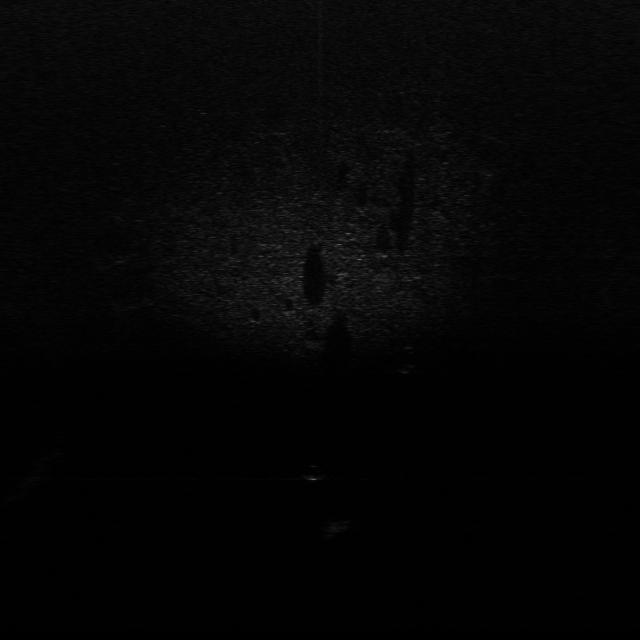ball: (302, 463, 328, 484)
square cage: (314, 513, 357, 535)
tyre: (391, 342, 423, 377)
